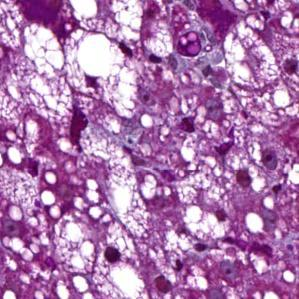ballooning: (221, 28, 280, 94), (64, 28, 118, 87)
